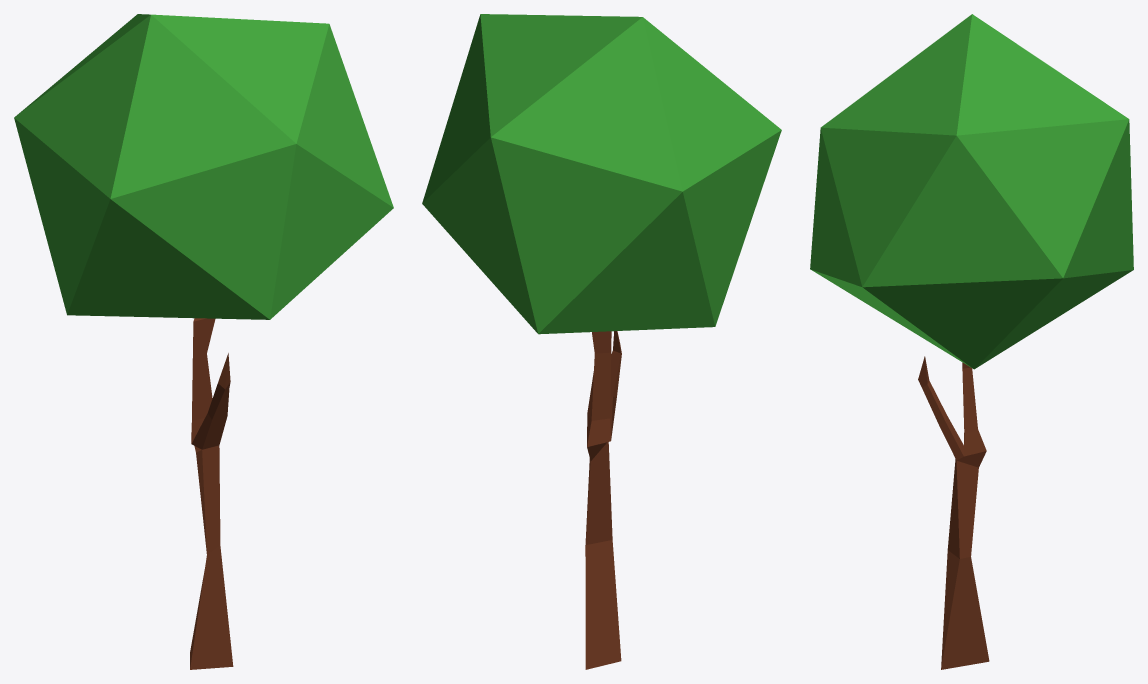
Rendered from tree.glb.
The picture shows the model from 3 angles, left to right: view 1: azimuth 30°, elevation 25°; view 2: azimuth 150°, elevation 25°; view 3: azimuth 270°, elevation 25°; orthographic projection. The views are drawn at different scales.
Visible parts, largest first — view 1: tree; view 2: tree; view 3: tree.
Part boxes in pixels (x1=…): tree: x1=14, y1=14, x2=393, y2=669; tree: x1=422, y1=14, x2=781, y2=669; tree: x1=810, y1=14, x2=1133, y2=669.
Bounding box in the file's own units: 1.67 × 3.81 × 1.79.
